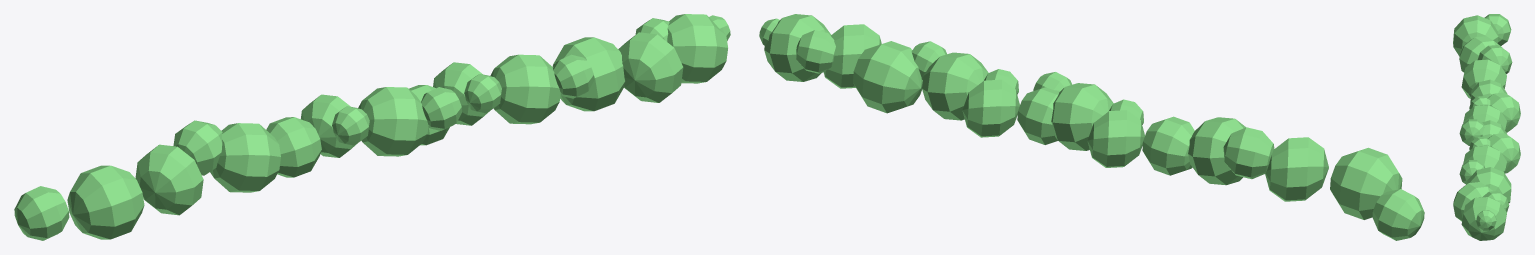
The model's file is Bushes.fbx.
The picture shows the model from 3 angles, left to right: view 1: azimuth 30°, elevation 25°; view 2: azimuth 150°, elevation 25°; view 3: azimuth 270°, elevation 25°; orthographic projection. The views are drawn at different scales.
Parts seen in each view (by area): view 1: Bushes_3_2; view 2: Bushes_3_2; view 3: Bushes_3_2.
Boxes of the visible parts, <box> form: Bushes_3_2: <box>14,14,730,240</box>; Bushes_3_2: <box>759,14,1424,240</box>; Bushes_3_2: <box>1453,14,1520,240</box>.
Bounding box in the file's own units: 537 × 55.23 × 71.2.
